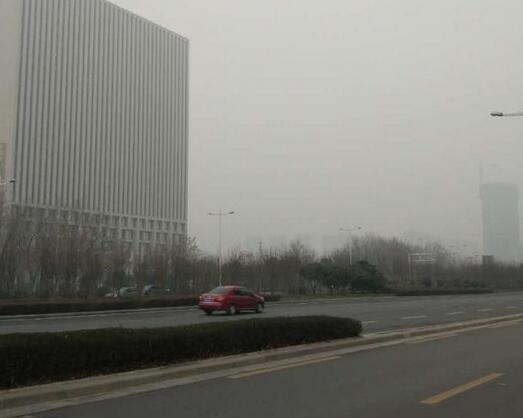car: (197, 284, 266, 315)
